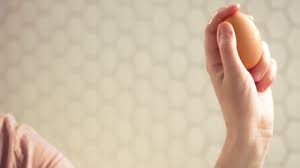egg: (220, 13, 264, 69)
